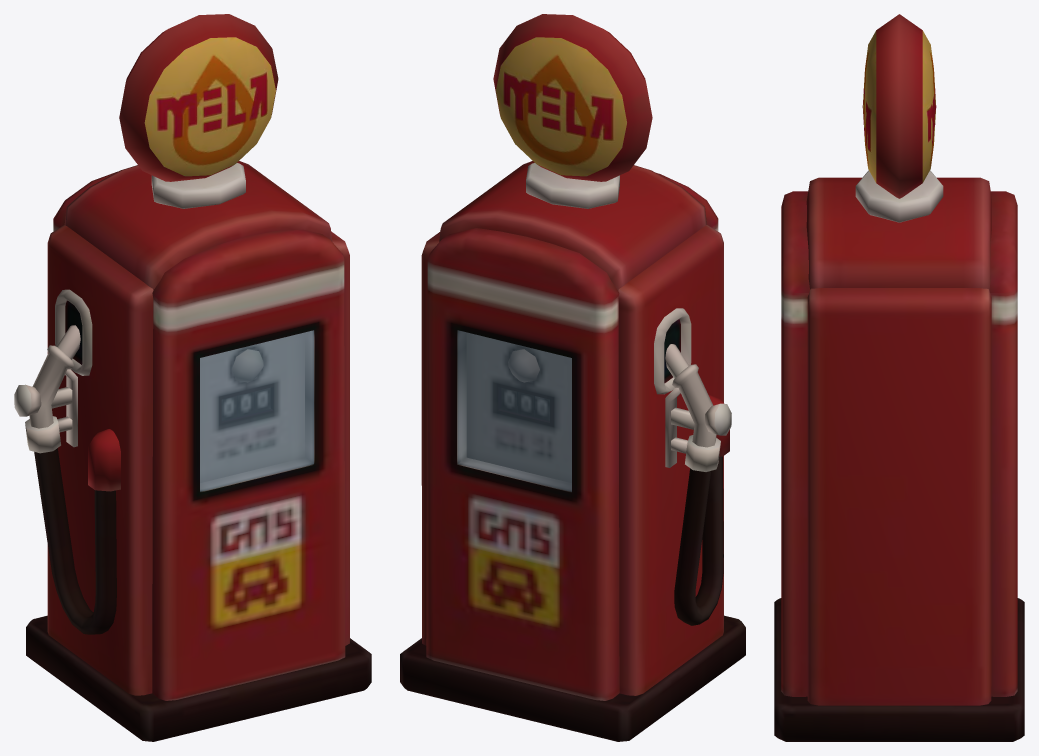
3 views of the same model, side by side, from view 1: azimuth 30°, elevation 25°; view 2: azimuth 150°, elevation 25°; view 3: azimuth 270°, elevation 25° (orthographic).
Size of the model in its own units: 8.33 by 18.47 by 6.31.
Materials: 3 (2 with a texture image).
